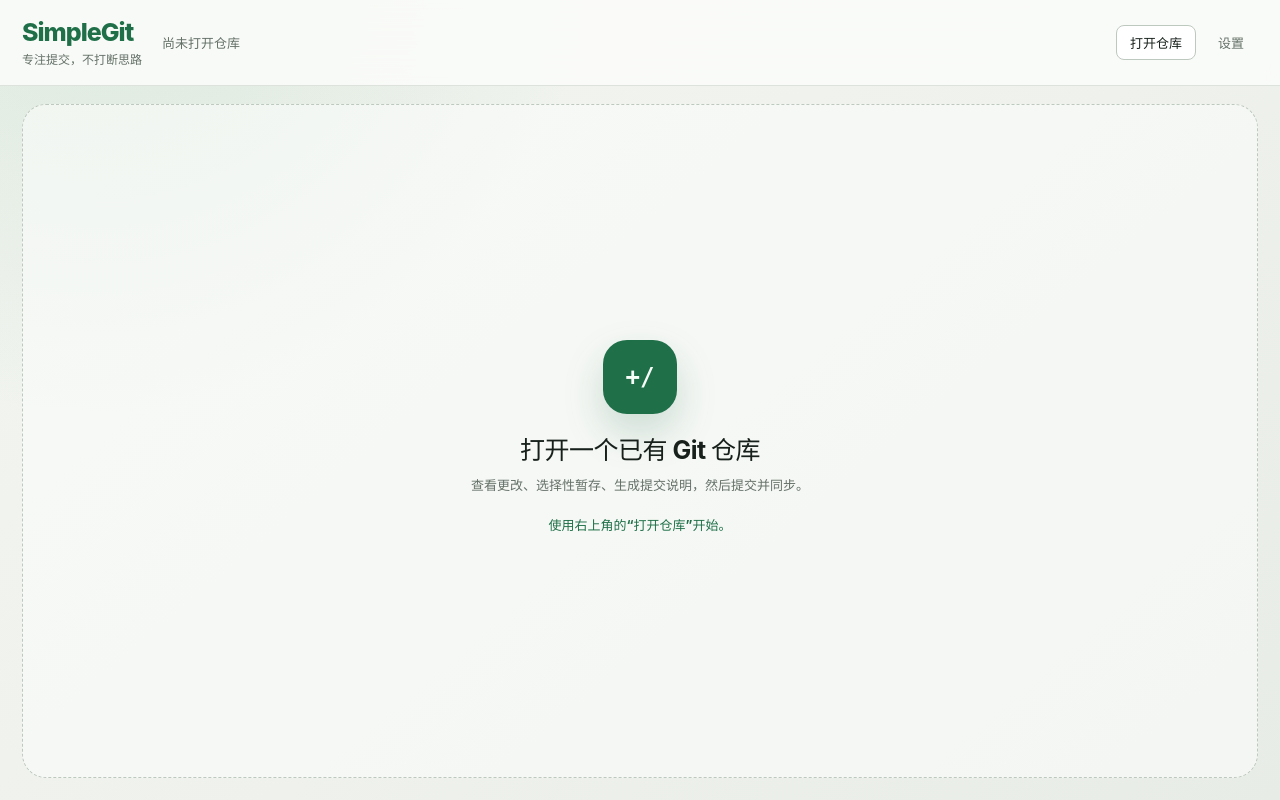
Test: SimpleGit main workspace › starts with an open repository action and loads the chosen path
Expected: the heading "SimpleGit" is shown, [22,18,142,46]
Click the button "打开仓库" at (1156, 42), box [1116,25,1196,60]
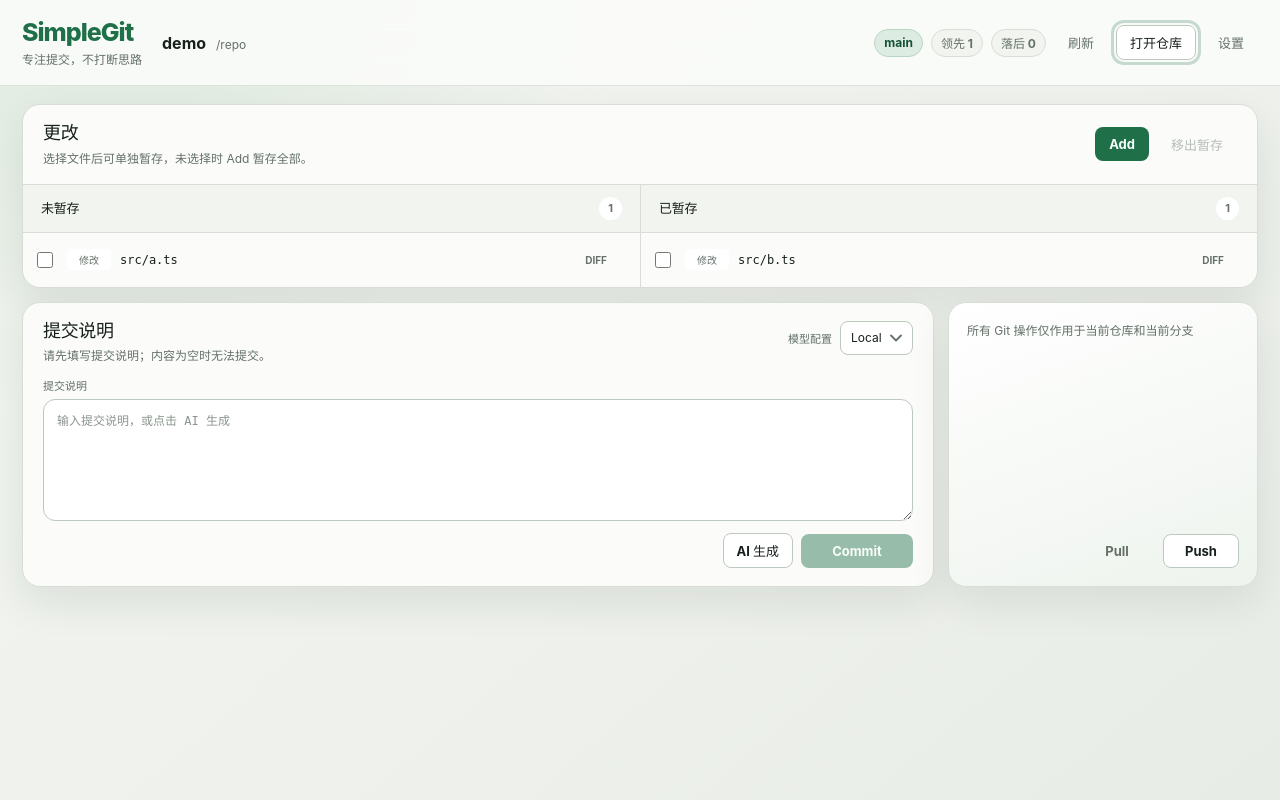
Now the text "demo" is shown, box [162,32,206,52]
